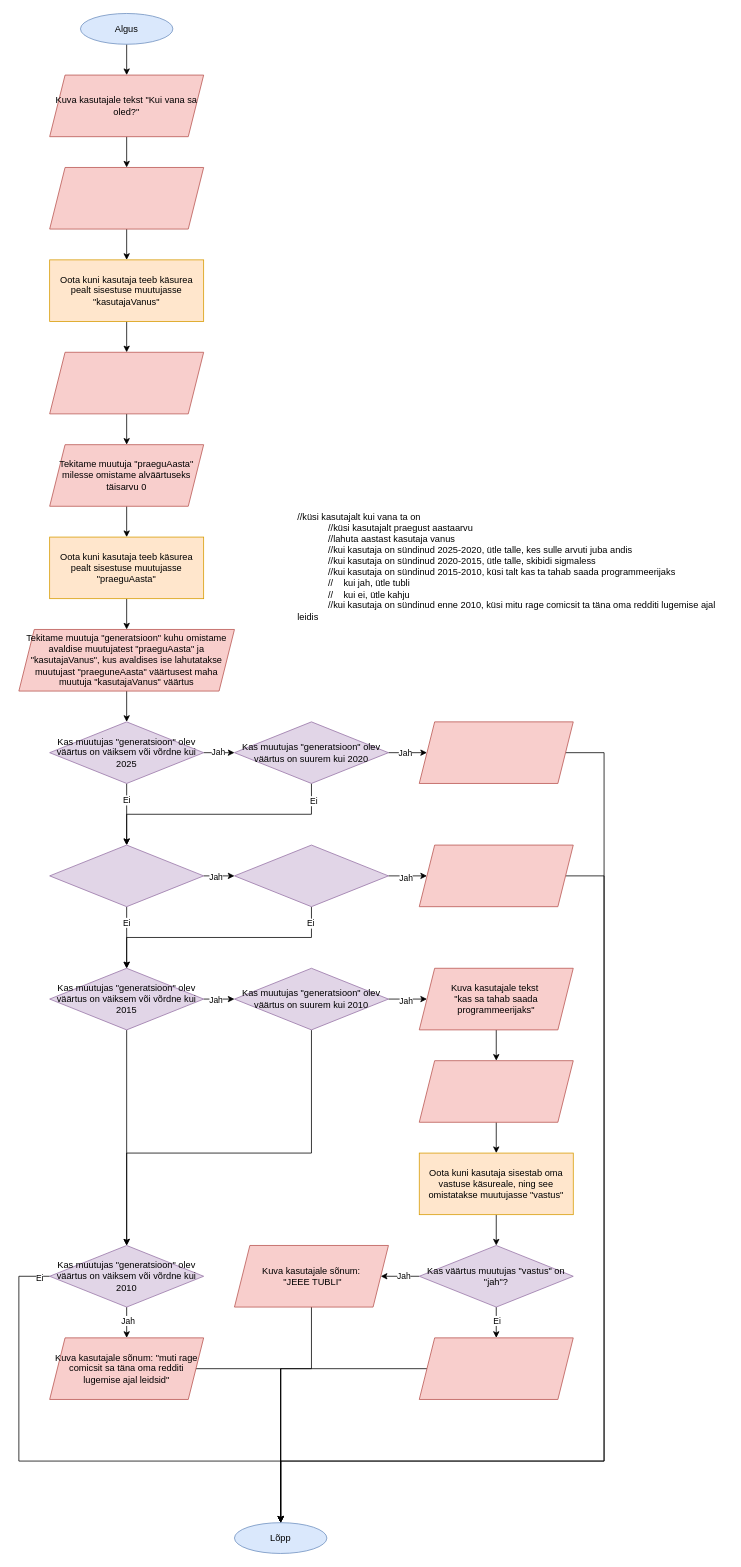
The diagram is 741 pixels wide and 1567 high, and some of its shapes have lost their labels. Each missing label, with the box of its shape:
Kas muutujas "generatsioon" olev väärtus on suurem kui 2015: (234, 844, 388, 907)
Kas muutujas "generatsioon" olev väärtus on väiksem või võrdne kui 2020: (49, 844, 204, 907)
Kuva kasutajale sõnum: "Kahjuuu...:c": (418, 1337, 573, 1399)
Kuva kasutajale tekst "i aint typin dis🥀": (418, 844, 573, 907)
Kuva kasutajale tekst "Kes sulle arvuti juba andis?": (418, 721, 573, 783)
Kuva kasutajale tekst: "Mis aasta hetkel kalendris on?": (49, 352, 204, 414)
Tekita muutuja "vastus" milesse omistad algväärtusena tühja sõne "".: (418, 1060, 573, 1122)
Tekita täisarvu muutuja "kasutajaVanus" millesse omistad alväärtuseks kõisarvu 0: (49, 167, 204, 229)
